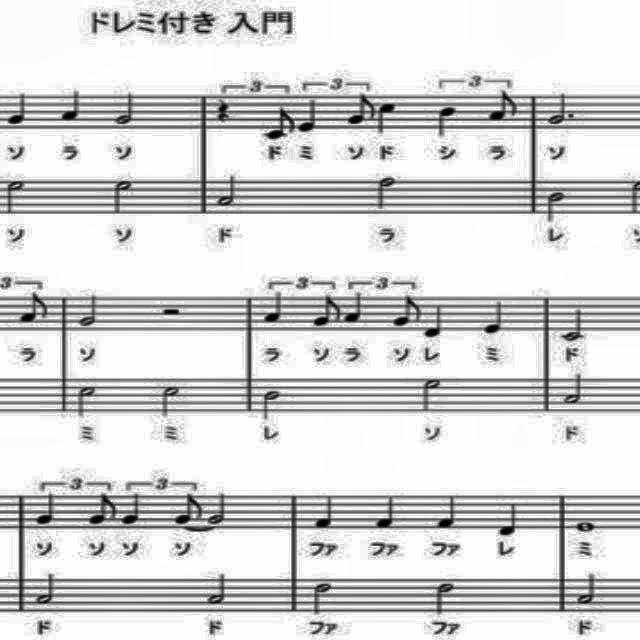Eighth-note: (262, 100, 298, 148), (15, 288, 52, 332), (171, 486, 207, 530), (484, 86, 520, 130), (84, 491, 120, 534), (347, 84, 379, 128), (390, 291, 426, 329), (310, 292, 342, 334)
Full-note: (572, 514, 602, 538)
Half-dot: (543, 84, 583, 128)
Half-note: (104, 170, 142, 222), (201, 564, 235, 612), (556, 301, 592, 345), (72, 283, 100, 337), (256, 382, 288, 426), (112, 81, 140, 131), (210, 171, 244, 211), (2, 172, 30, 218), (373, 170, 402, 214), (418, 374, 447, 418), (432, 576, 460, 620), (544, 185, 572, 228), (157, 380, 187, 420), (206, 485, 234, 527), (572, 569, 600, 611), (310, 578, 338, 618), (75, 378, 99, 422), (34, 568, 58, 610), (560, 369, 586, 407)
Half-rest: (155, 300, 187, 324)
Quarter-note: (368, 482, 400, 534), (306, 487, 338, 535), (420, 297, 450, 347), (431, 487, 462, 535), (492, 493, 524, 539), (479, 294, 507, 342), (341, 288, 372, 330), (294, 98, 326, 138), (258, 288, 290, 328), (116, 490, 148, 530), (372, 98, 401, 142), (433, 101, 463, 143), (31, 489, 61, 531), (58, 85, 86, 125), (6, 89, 30, 131)
Quarter-rest: (208, 94, 240, 128)
